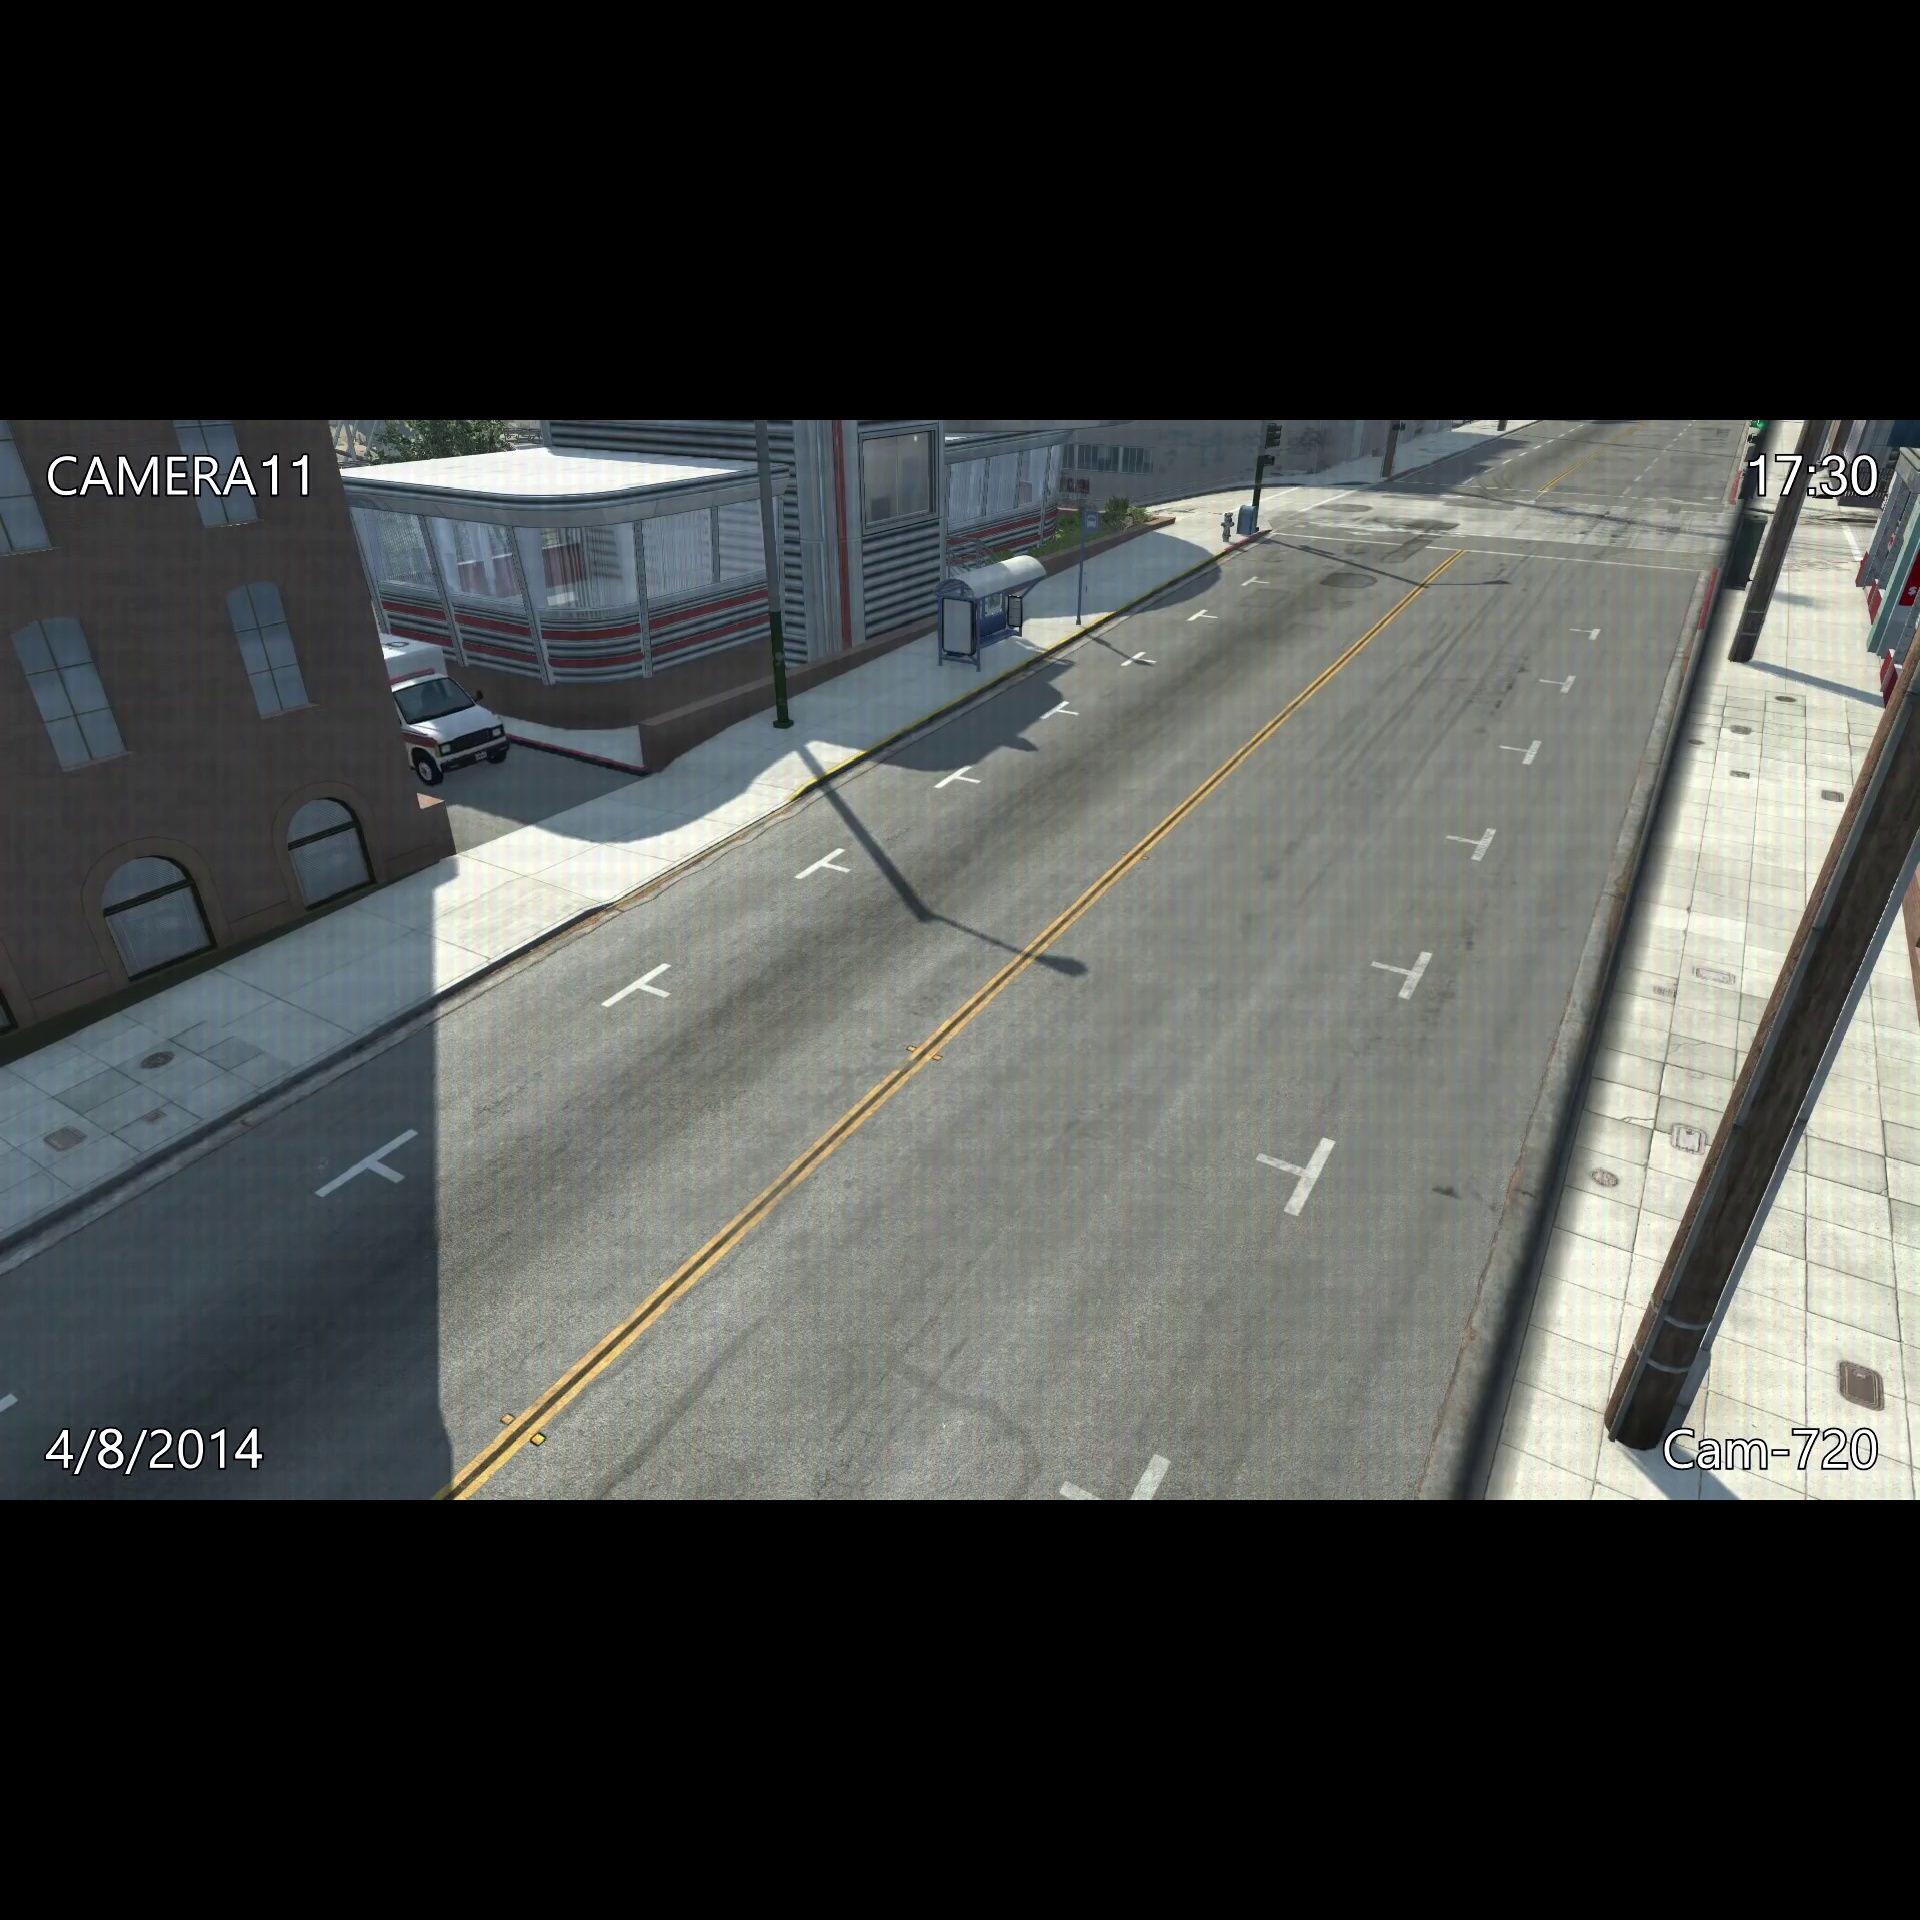vehicle: (360, 629, 517, 788)
